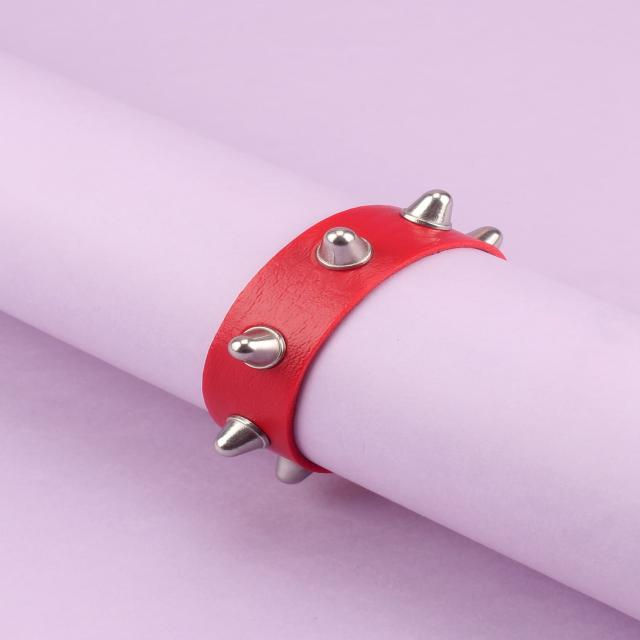bracelet: (147, 114, 606, 519)
